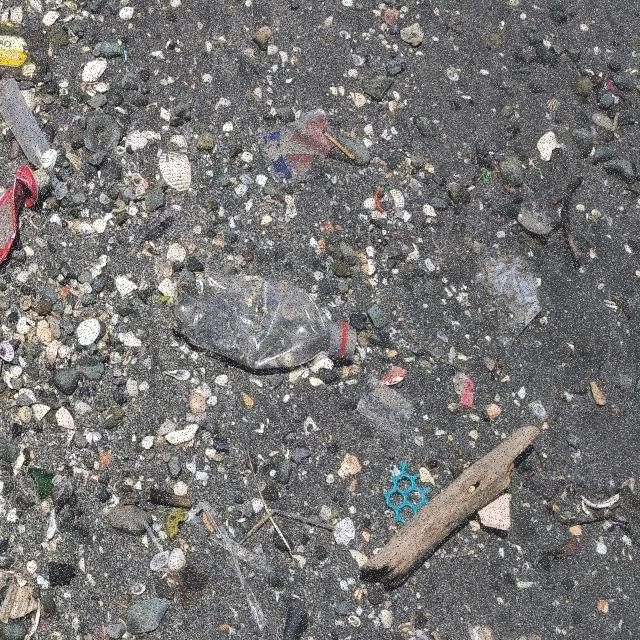plastic_waste: (173, 271, 360, 371), (258, 108, 338, 190), (1, 27, 52, 86)
wood_waste: (361, 427, 541, 590)
